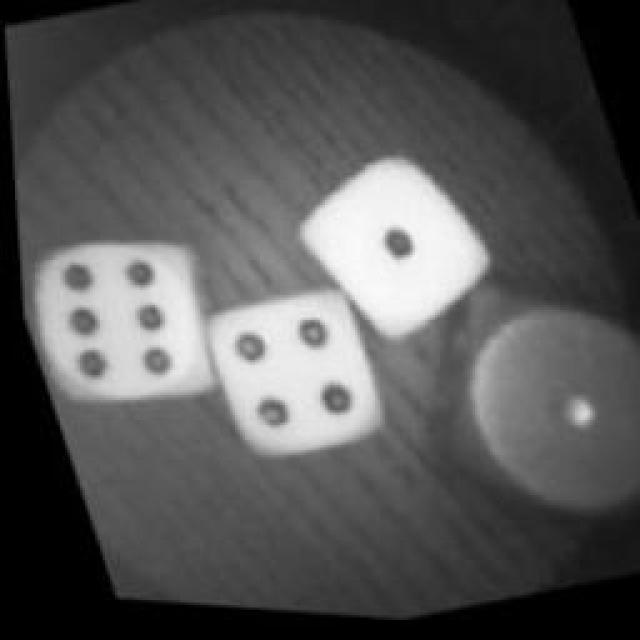dice_1: (415, 256, 640, 562), (289, 135, 501, 365)
dice_4: (184, 275, 398, 487)
dice_6: (14, 220, 231, 450)
